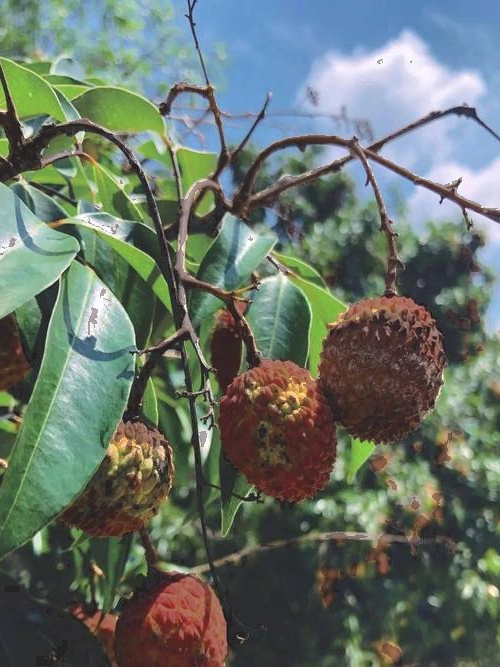Frost_Blight: (328, 288, 446, 450), (202, 357, 315, 484), (77, 411, 168, 542)
